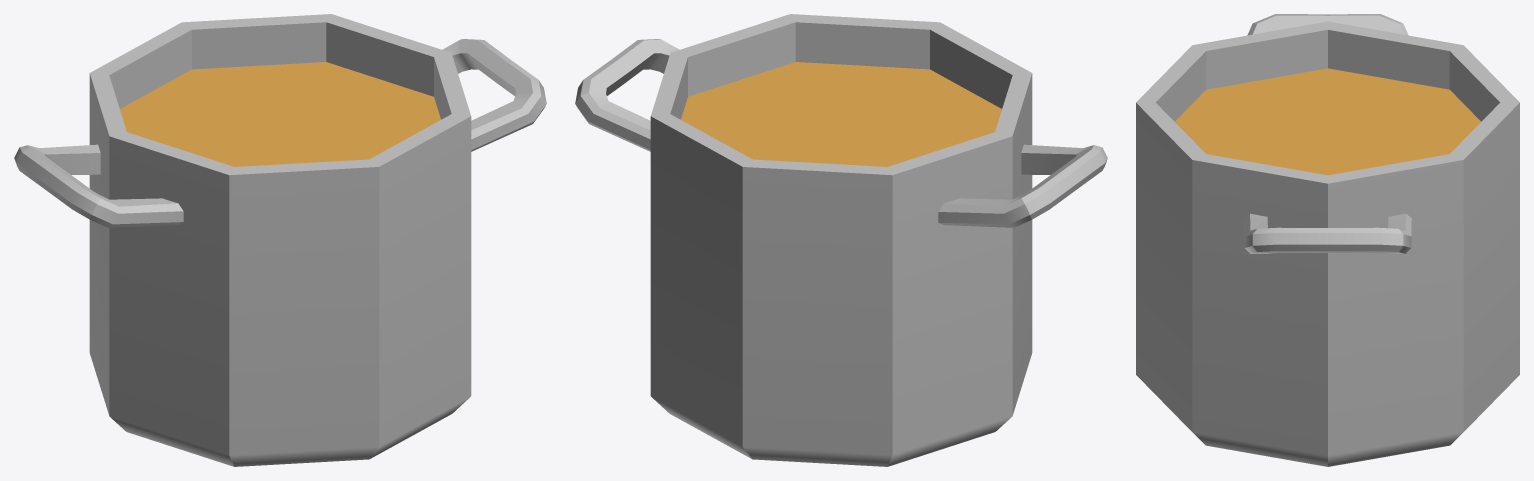
The model's file is LargePotFull.fbx.
The picture shows the model from 3 angles, left to right: view 1: azimuth 30°, elevation 25°; view 2: azimuth 150°, elevation 25°; view 3: azimuth 270°, elevation 25°; orthographic projection. The views are drawn at different scales.
Parts seen in each view (by area): view 1: LargePotFull; view 2: LargePotFull; view 3: LargePotFull.
Boxes of the visible parts, box(x1,y1,x2,y2) form: LargePotFull: box(14, 14, 546, 466); LargePotFull: box(575, 14, 1107, 466); LargePotFull: box(1136, 14, 1519, 466).
Size of the model in its own units: 61.32 by 37.16 by 44.38.
